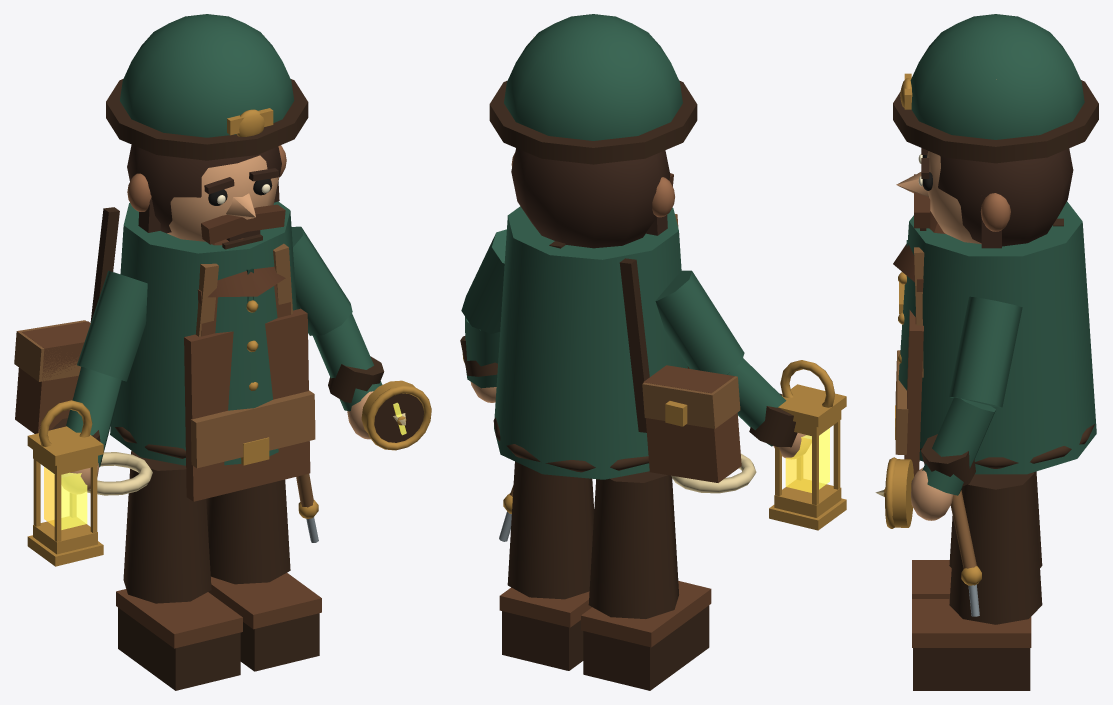
Rendered from asset.glb.
3 renders of one model, left to right at view 1: azimuth 30°, elevation 25°; view 2: azimuth 150°, elevation 25°; view 3: azimuth 270°, elevation 25°, orthographic. The views are drawn at different scales.
Visible parts, largest first — view 1: Medieval_Shepherd_Bright, Shipwright_Lantern, Shipwright_Compass; view 2: Medieval_Shepherd_Bright, Shipwright_Lantern; view 3: Medieval_Shepherd_Bright, Shipwright_Compass.
Boxes of the visible parts, x1,y1,x2,y2 form: Medieval_Shepherd_Bright: (14, 14, 384, 690); Shipwright_Lantern: (27, 400, 103, 566); Shipwright_Compass: (361, 380, 431, 450); Medieval_Shepherd_Bright: (460, 14, 811, 690); Shipwright_Lantern: (769, 360, 846, 530); Medieval_Shepherd_Bright: (893, 14, 1098, 690); Shipwright_Compass: (875, 457, 913, 528).
Size of the model in its own units: 2.18 by 3.46 by 1.11.
